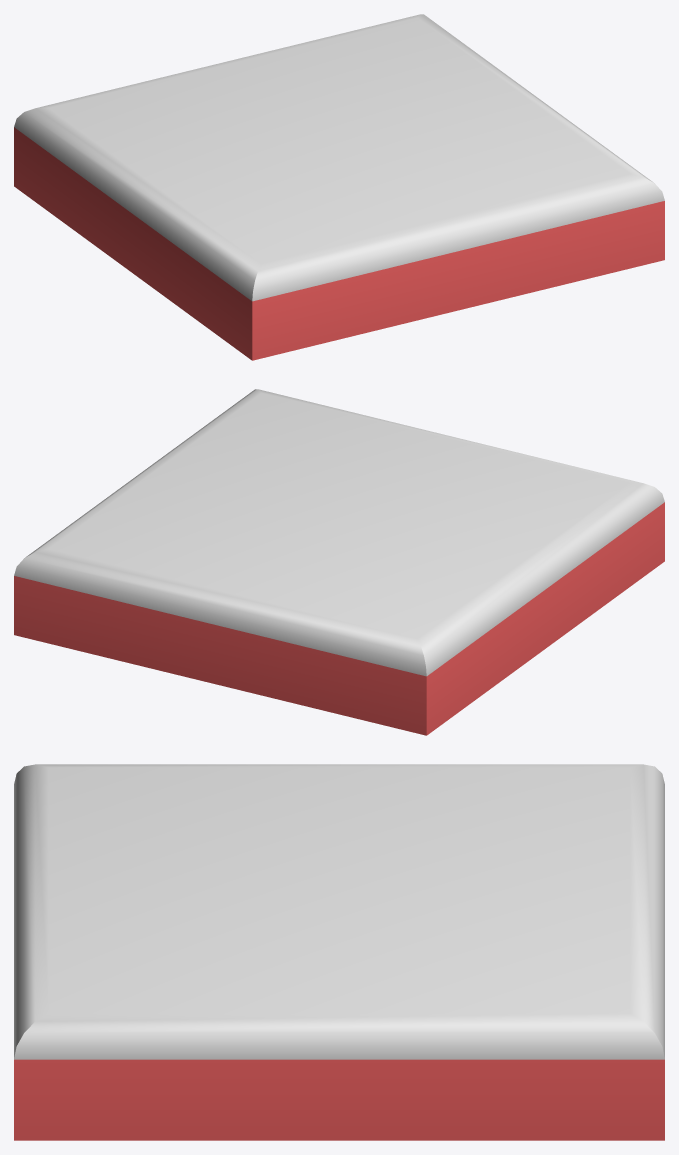
Rendered from CubeForTile_04.3.fbx.
3 renders of one model, top to bottom at view 1: azimuth 30°, elevation 25°; view 2: azimuth 150°, elevation 25°; view 3: azimuth 270°, elevation 25°, orthographic. The views are drawn at different scales.
Parts seen in each view (by area): view 1: CubeForTile_04.3; view 2: CubeForTile_04.3; view 3: CubeForTile_04.3.
Part boxes in pixels (bbox=[...]): CubeForTile_04.3: bbox=[14, 14, 664, 360]; CubeForTile_04.3: bbox=[14, 389, 664, 735]; CubeForTile_04.3: bbox=[14, 764, 664, 1140].
Bounding box in the file's own units: 200 × 38.11 × 200.
